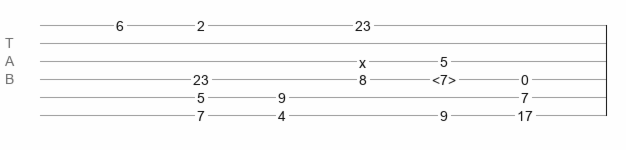0: (521, 72, 529, 82)
17: (517, 108, 533, 118)
2: (197, 18, 205, 28)
23: (193, 72, 209, 82), (355, 18, 371, 28)
4: (278, 108, 286, 118)
5: (197, 90, 205, 100), (440, 54, 448, 64)
6: (116, 18, 124, 28)
7: (197, 108, 205, 118), (521, 90, 529, 100)
8: (359, 72, 367, 82)
9: (278, 90, 286, 100), (440, 108, 448, 118)
harmonic: (432, 72, 456, 82)
x: (359, 55, 366, 63)
